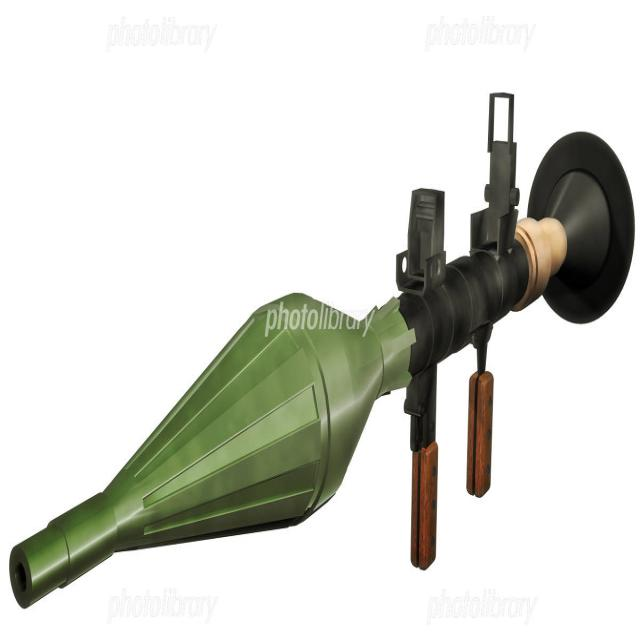bazooka: (7, 79, 640, 636)
